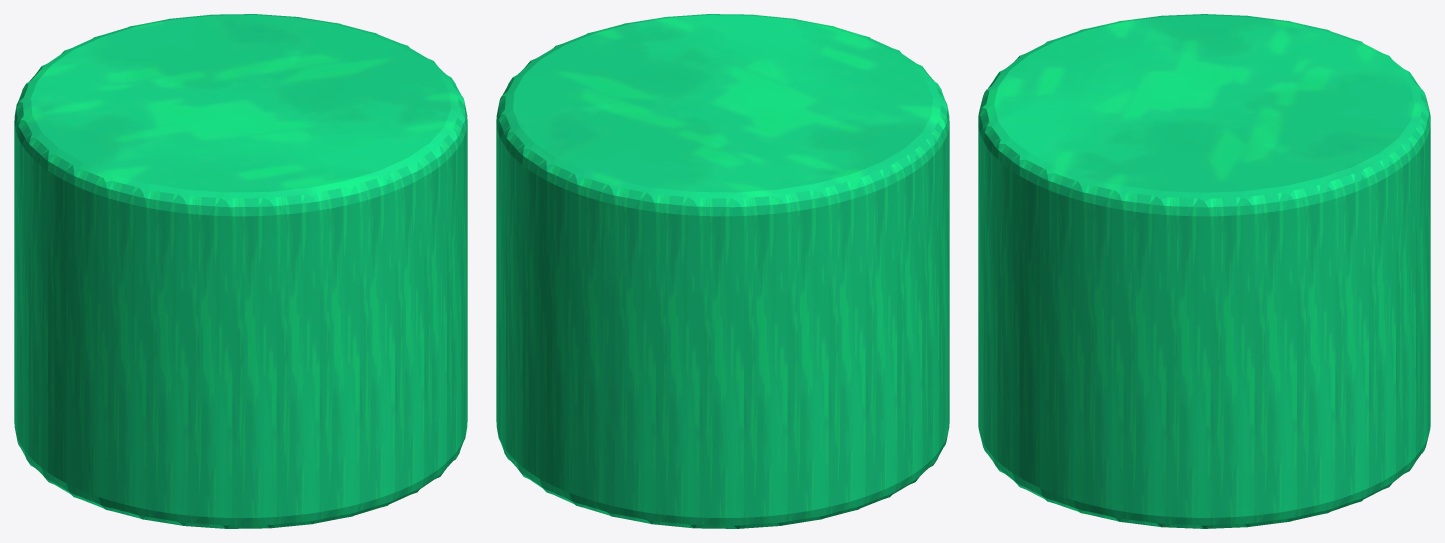
The model's file is RR_Resource_Rhodius.obj.
The picture shows the model from 3 angles, left to right: view 1: azimuth 30°, elevation 25°; view 2: azimuth 150°, elevation 25°; view 3: azimuth 270°, elevation 25°; orthographic projection.
Parts seen in each view (by area): view 1: Cylinder.001; view 2: Cylinder.001; view 3: Cylinder.001.
Boxes of the visible parts, x1,y1,x2,y2 form: Cylinder.001: (14,14,467,528); Cylinder.001: (496,14,949,528); Cylinder.001: (978,14,1430,528).
Bounding box in the file's own units: 2.82 × 2.31 × 2.82.
